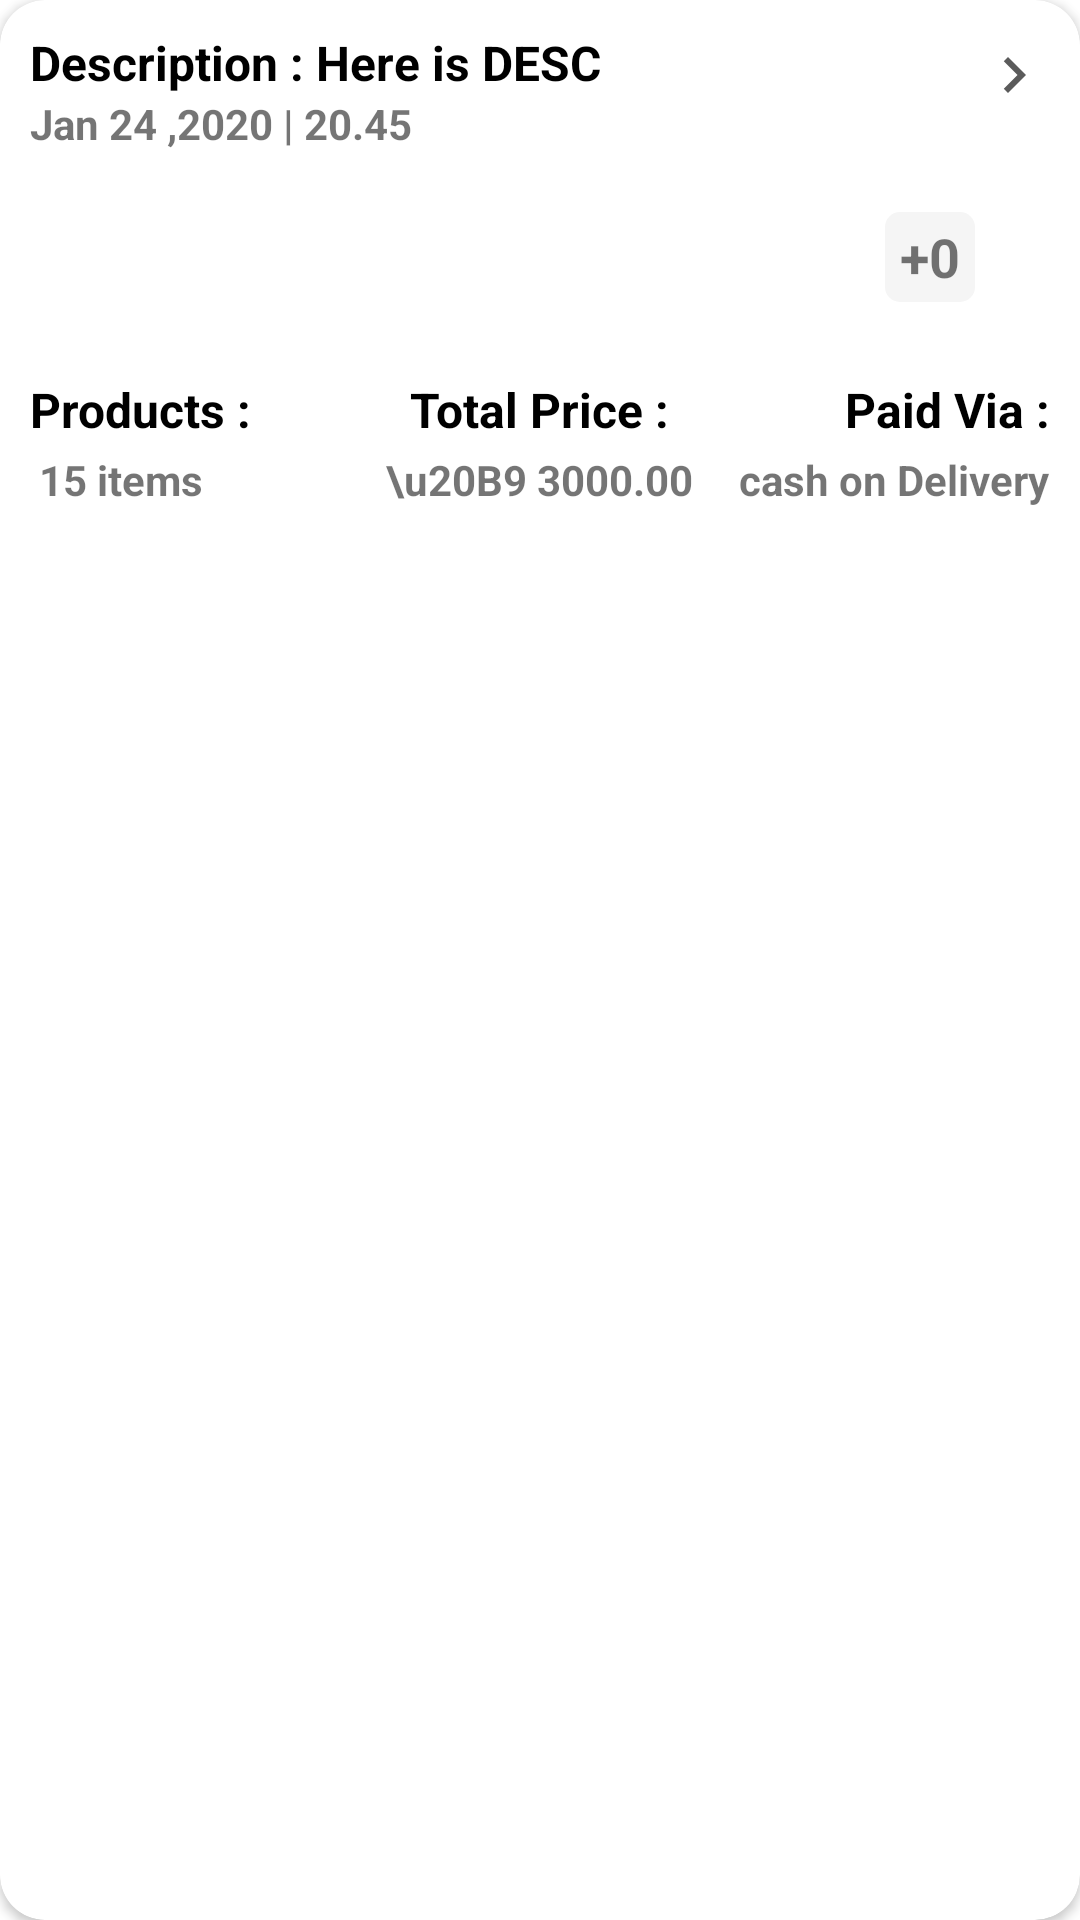

Where icons sit on this 1080 × 1920 app screen, as (x1, y1, x2, y2):
chevron right: (1004, 57, 1026, 93)
